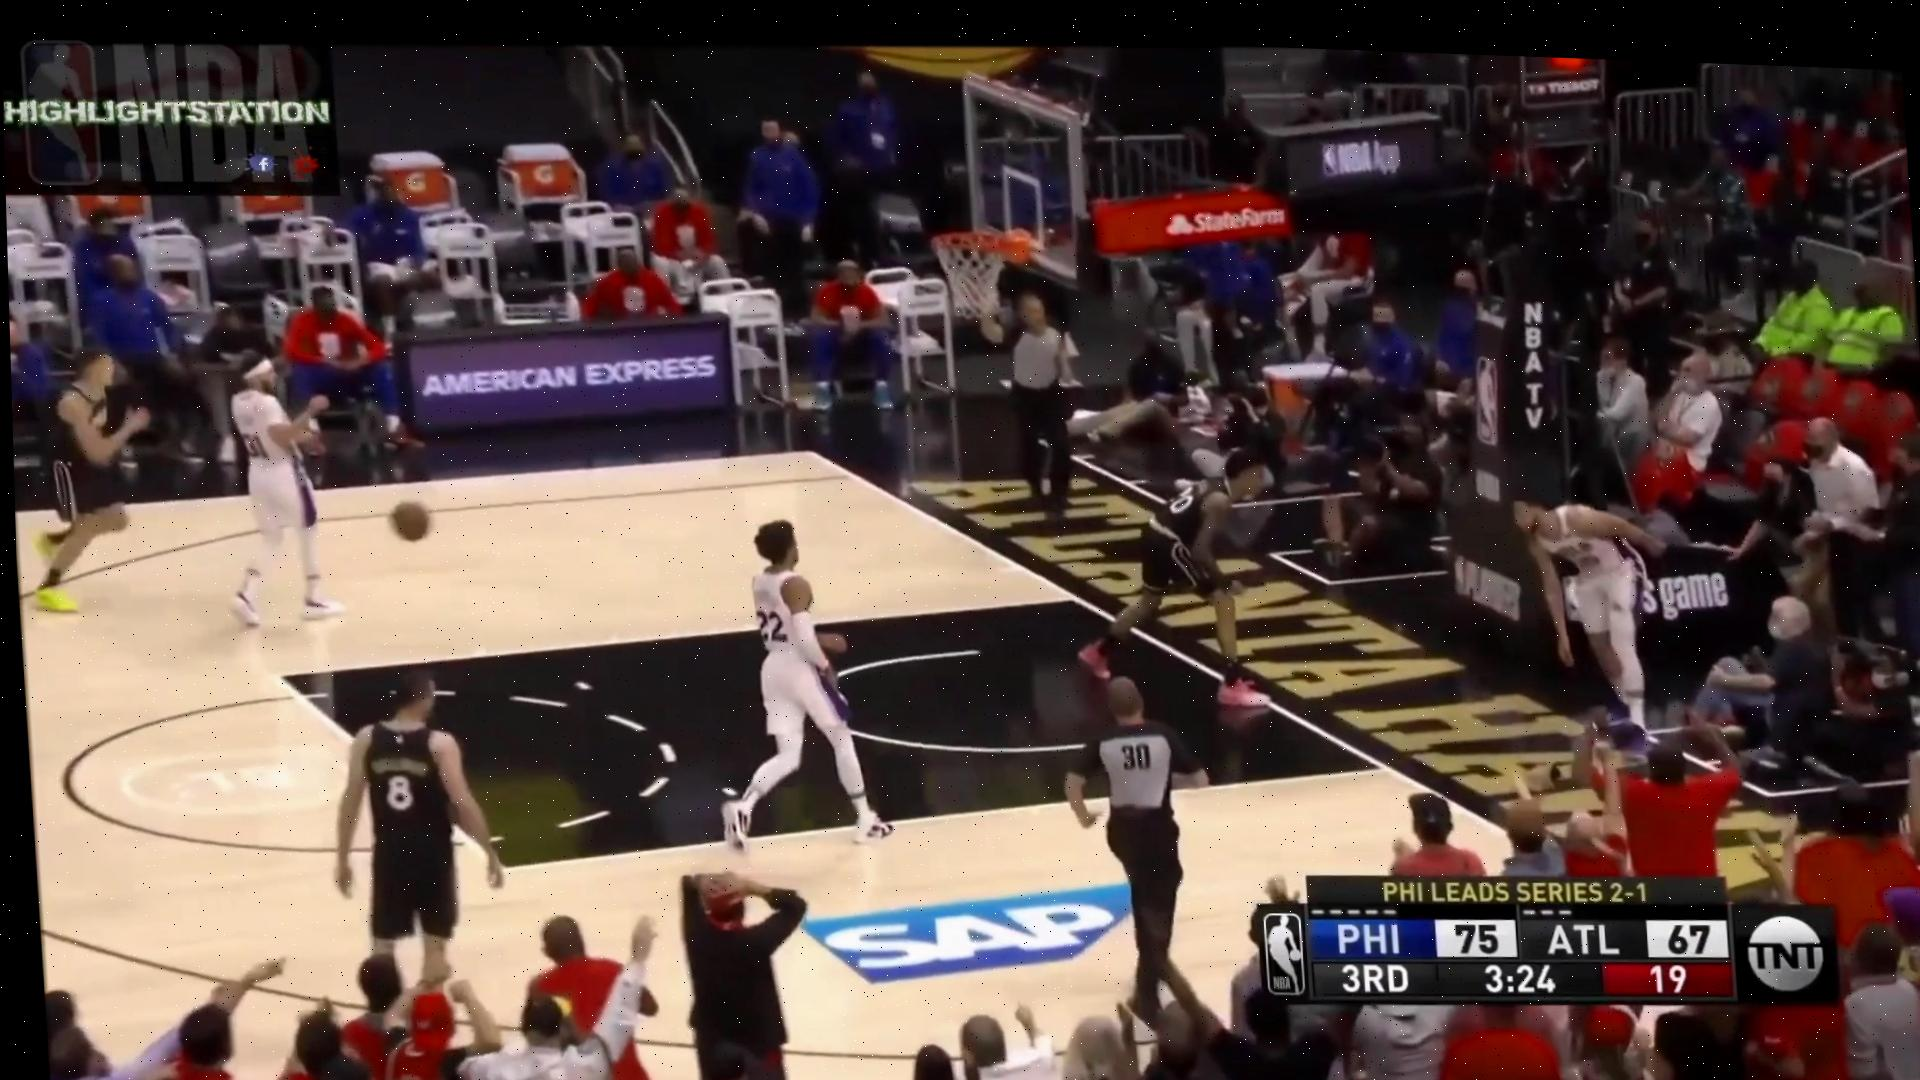no_foul: (16, 336, 365, 637)
